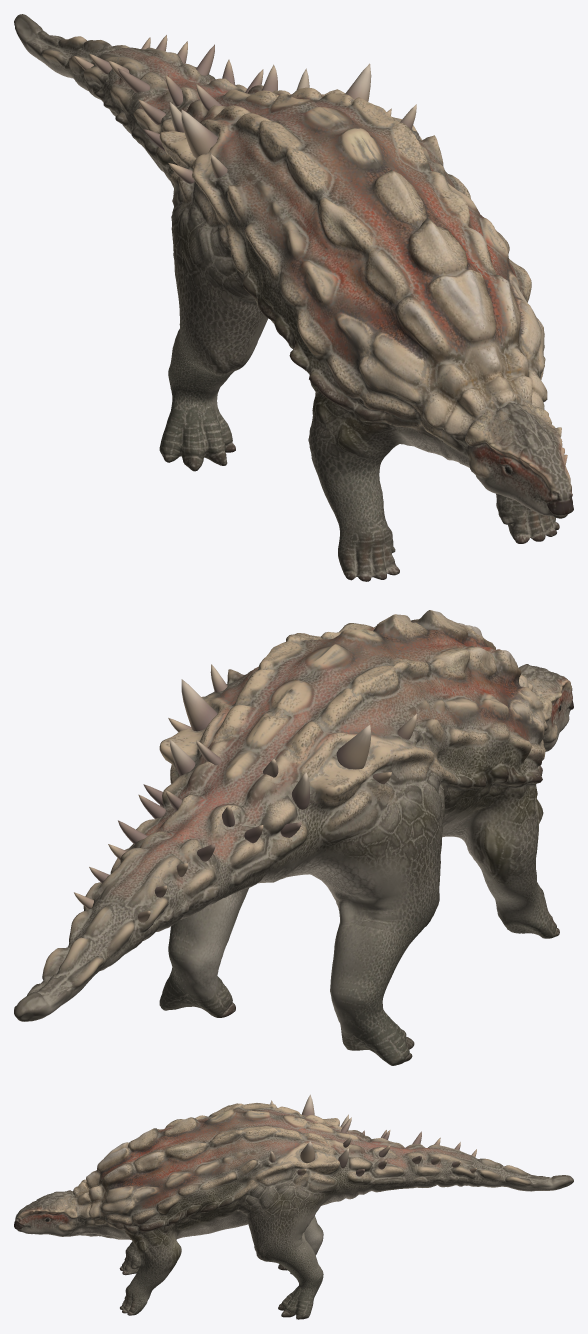
File: minmi.fbx
3 views of the same model, one above another, from view 1: azimuth 30°, elevation 25°; view 2: azimuth 150°, elevation 25°; view 3: azimuth 270°, elevation 25° (orthographic). The views are drawn at different scales.
Parts seen in each view (by area): view 1: 13630_Minmi_v1_L1; view 2: 13630_Minmi_v1_L1; view 3: 13630_Minmi_v1_L1.
Boxes of the visible parts, box(x1,y1,x2,y2) form: 13630_Minmi_v1_L1: box(14, 14, 573, 581); 13630_Minmi_v1_L1: box(14, 610, 573, 1065); 13630_Minmi_v1_L1: box(14, 1094, 573, 1319).
Size of the model in its own units: 50.76 by 69.63 by 196.
1 material, 1 textured.
